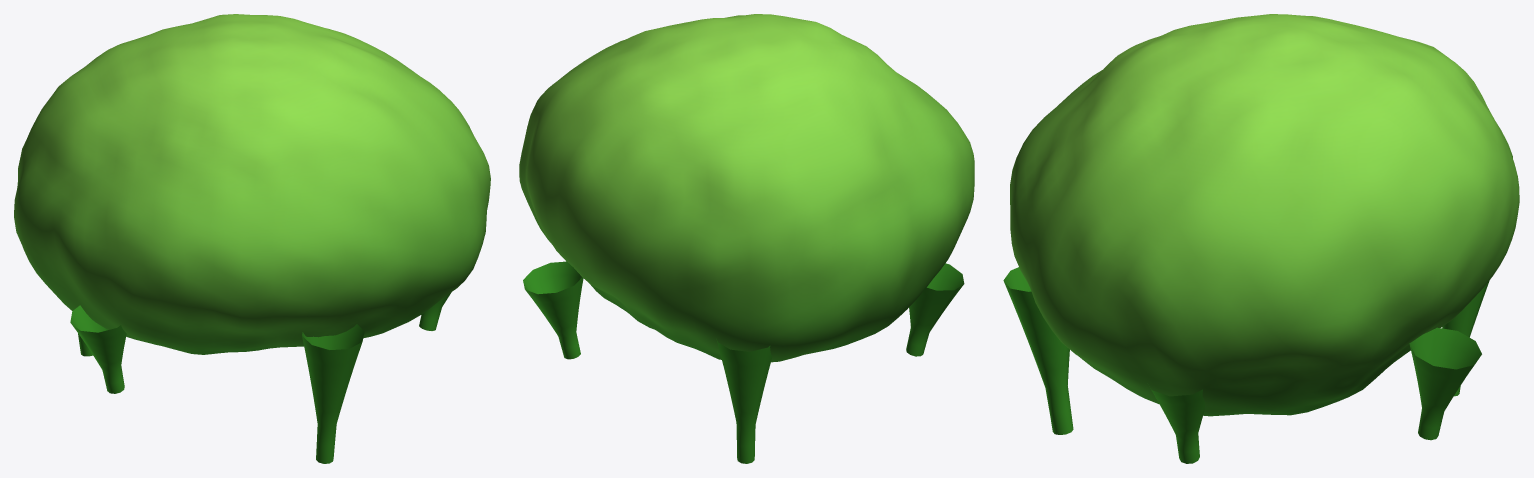
The model's file is slime.fbx.
The picture shows the model from 3 angles, left to right: view 1: azimuth 30°, elevation 25°; view 2: azimuth 150°, elevation 25°; view 3: azimuth 270°, elevation 25°; orthographic projection. The views are drawn at different scales.
Parts seen in each view (by area): view 1: slime; view 2: slime; view 3: slime.
Part boxes in pixels (bbox=[...]): slime: bbox=[14, 14, 490, 463]; slime: bbox=[519, 14, 974, 463]; slime: bbox=[1003, 14, 1519, 463].
Size of the model in its own units: 0.085 by 0.0699 by 0.082.
Materials: 1 (1 with a texture image).
